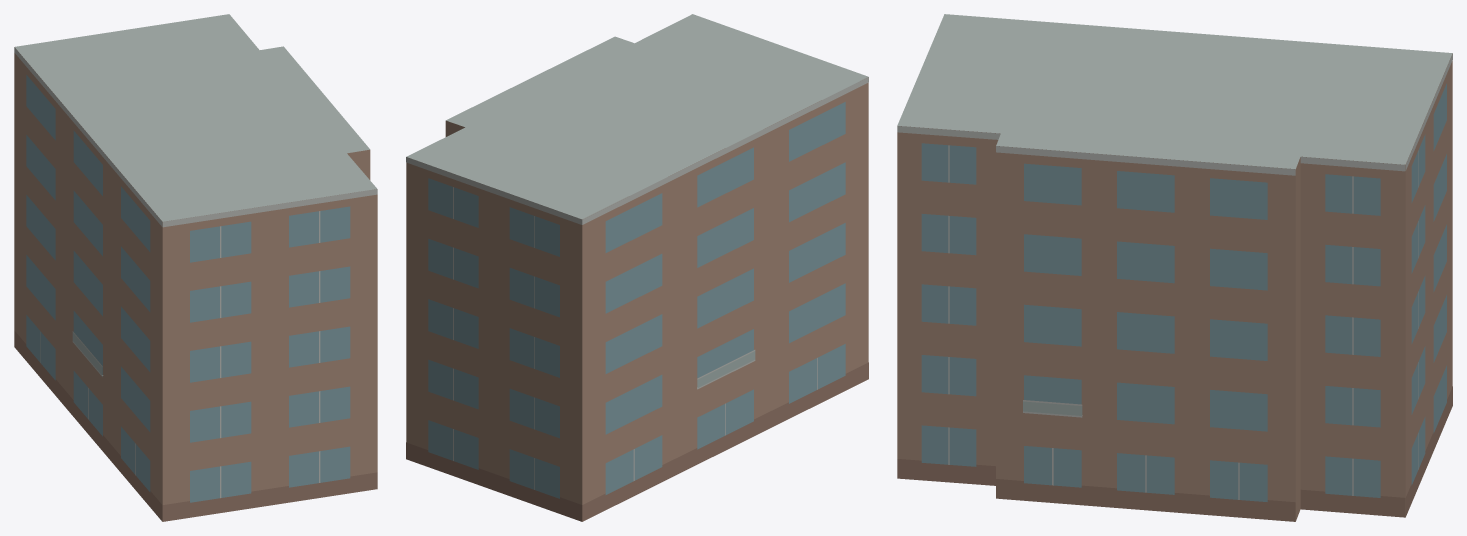
Rendered from survey-upis-32633602.glb.
3 renders of one model, left to right at view 1: azimuth 30°, elevation 25°; view 2: azimuth 150°, elevation 25°; view 3: azimuth 270°, elevation 25°, orthographic. The views are drawn at different scales.
Parts seen in each view (by area): view 1: survey-upis-32633602.tmp; view 2: survey-upis-32633602.tmp; view 3: survey-upis-32633602.tmp.
Part boxes in pixels (box(x1,y1,x2,y2)): survey-upis-32633602.tmp: box(14, 14, 377, 521); survey-upis-32633602.tmp: box(406, 14, 868, 521); survey-upis-32633602.tmp: box(897, 14, 1452, 521).
Size of the model in its own units: 12.27 by 13 by 18.57.
